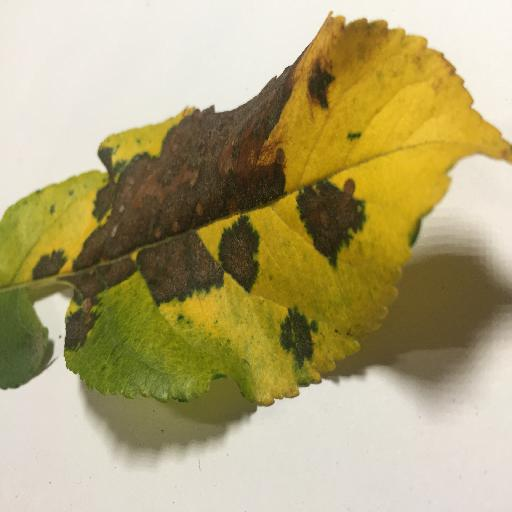Brown_Spot: (37, 63, 313, 357), (294, 186, 366, 262)
